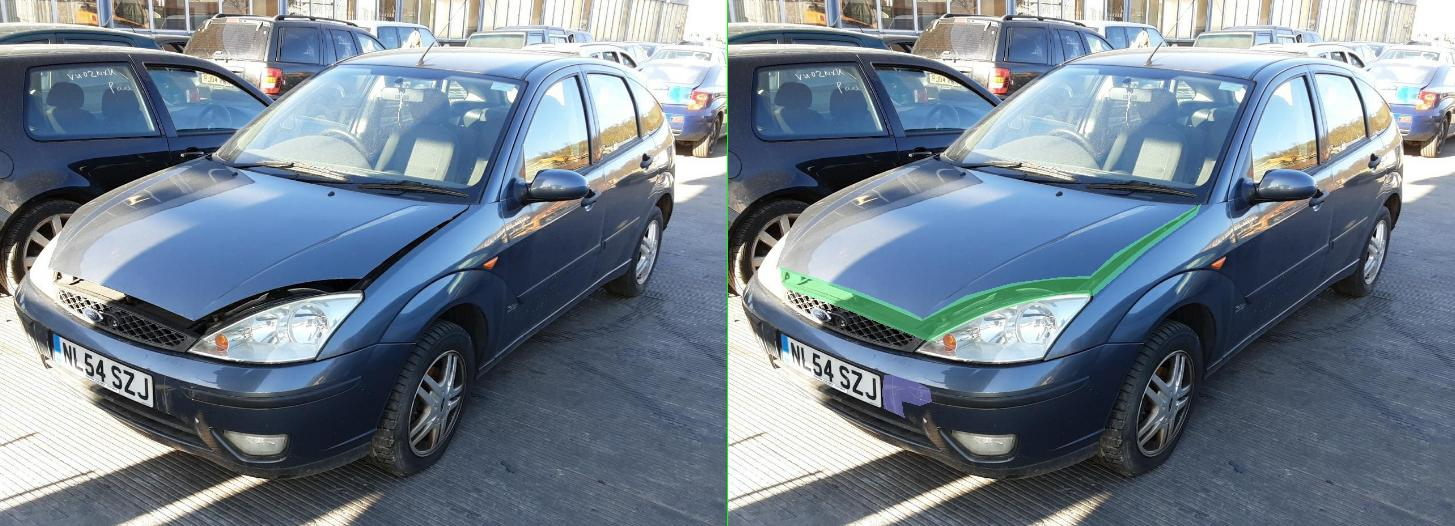Broken part: (104, 204, 945, 341)
Scratch: (308, 375, 406, 417)
